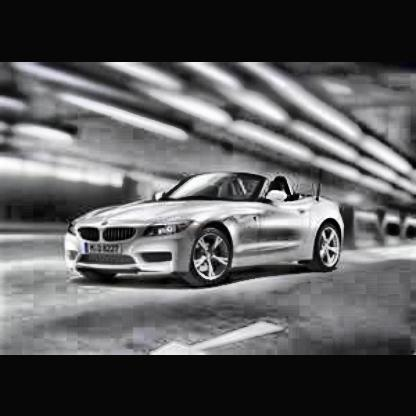BMW Z4 Convertible 2012: (65, 168, 350, 295)
